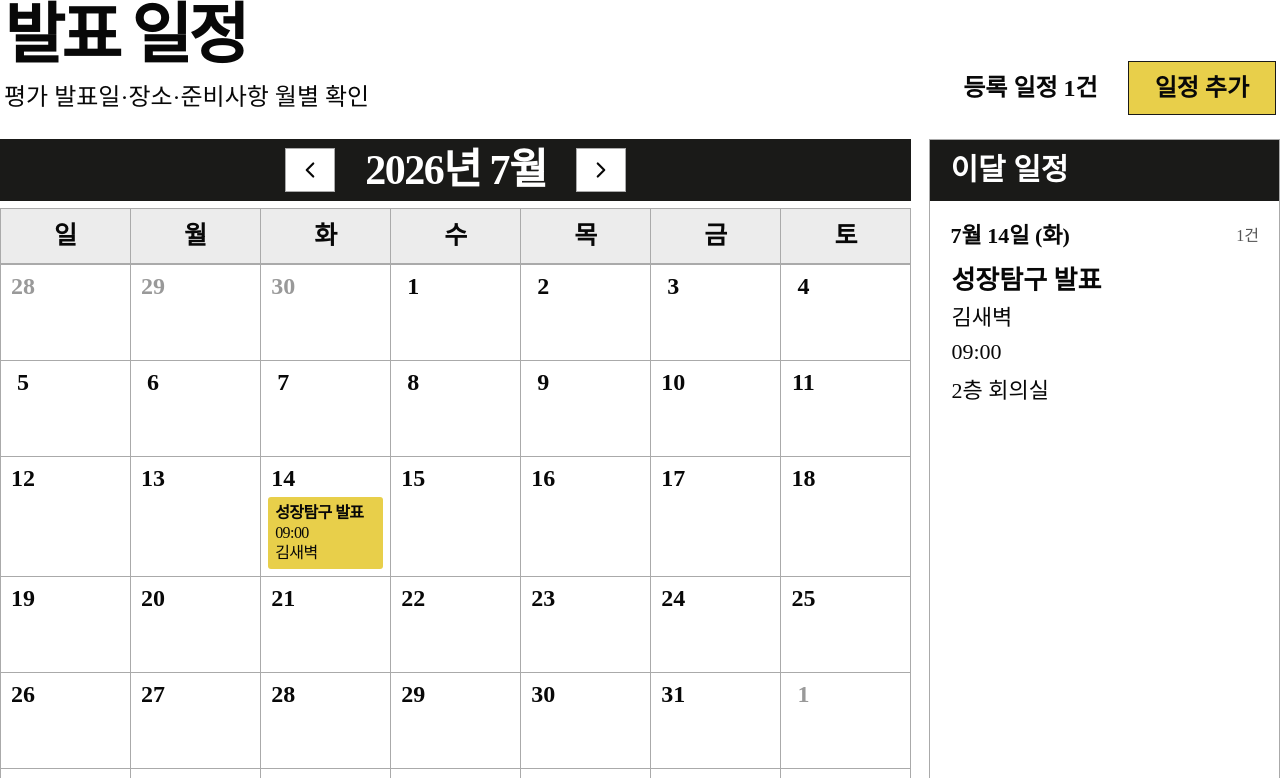
Scenario: EvaluationCalendar › blocks an incomplete schedule and links the error to its field
Click the button "일정 추가". click: (1202, 88)
box: top-left (1128, 61), bottom-right (1276, 115)
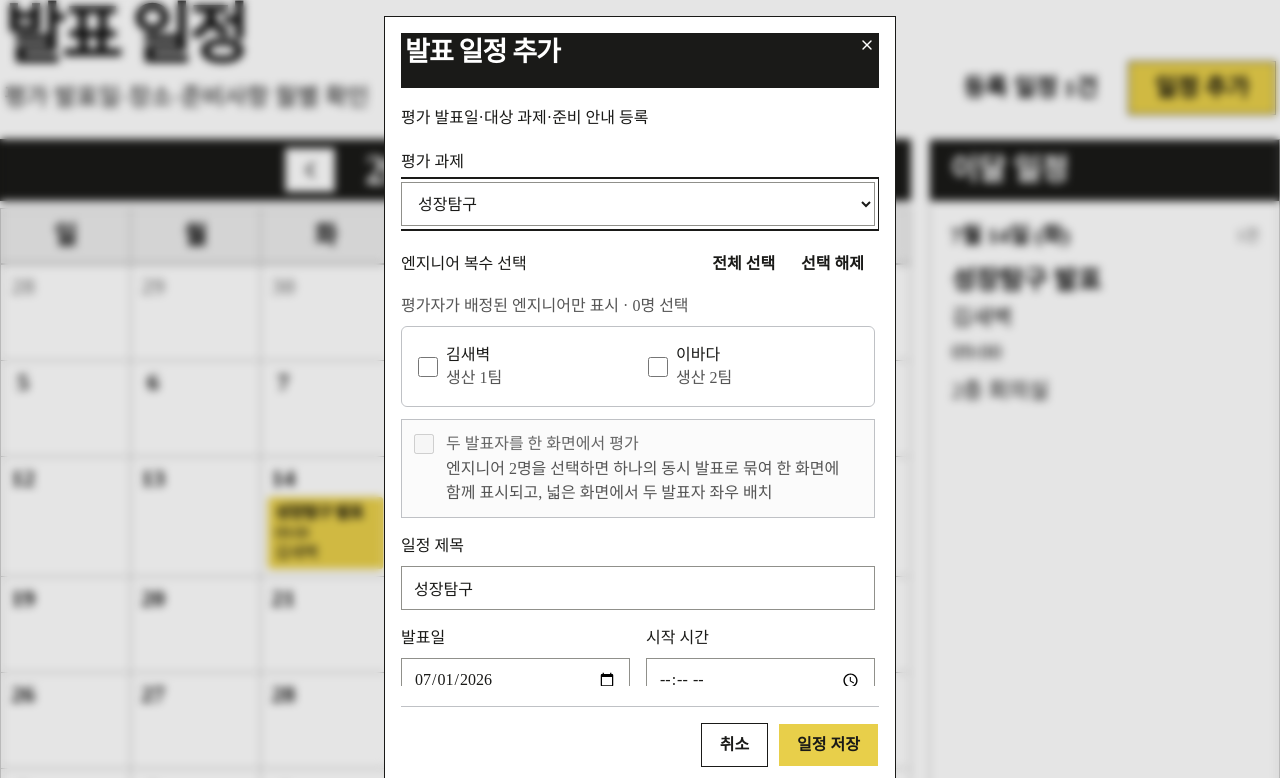
Click the button "일정 저장". click: (829, 745)
box: top-left (778, 723), bottom-right (879, 767)
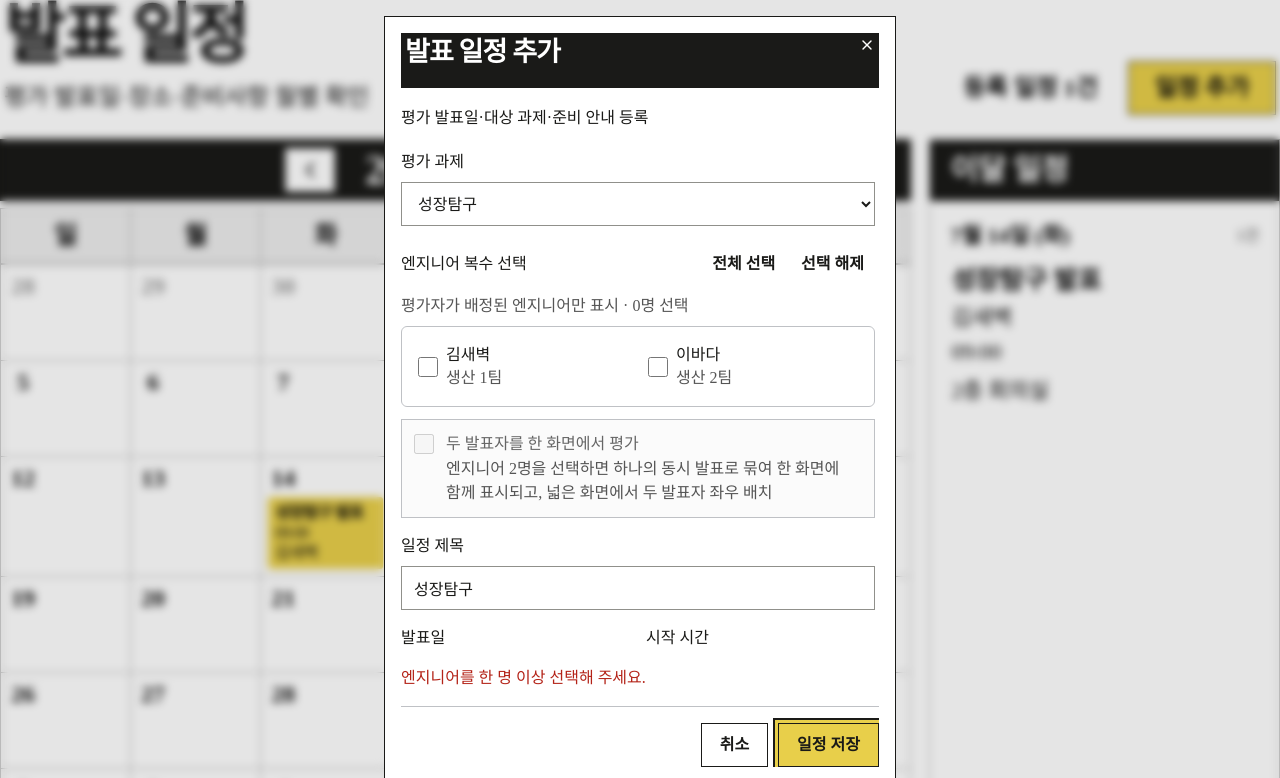
Result: the message shows "엔지니어를 한 명 이상 선택해 주세요" at top-left (401, 669), bottom-right (646, 686)
